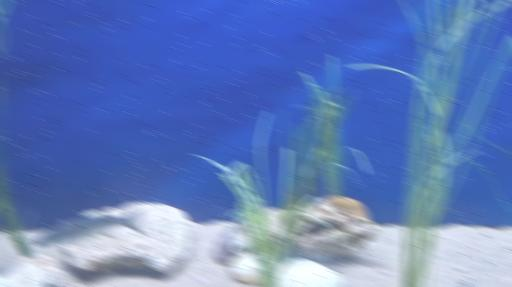Fish: (33, 208, 144, 246), (0, 264, 45, 286)
